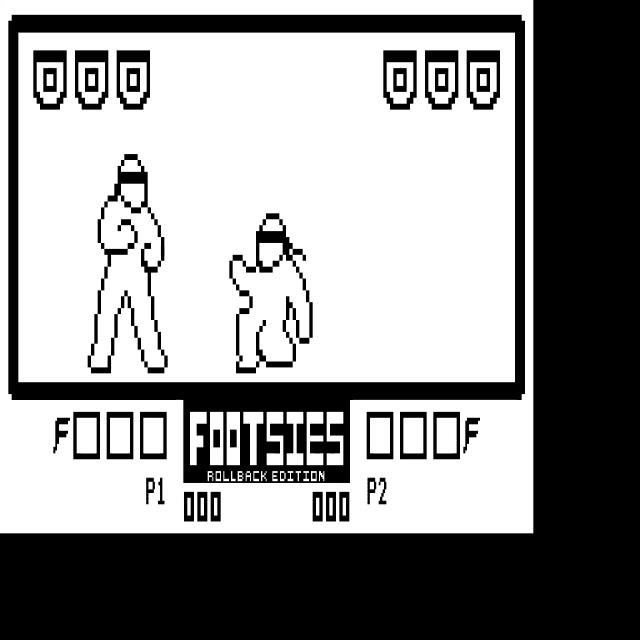Idle: (74, 148, 177, 378)
Kick: (228, 208, 316, 375)
